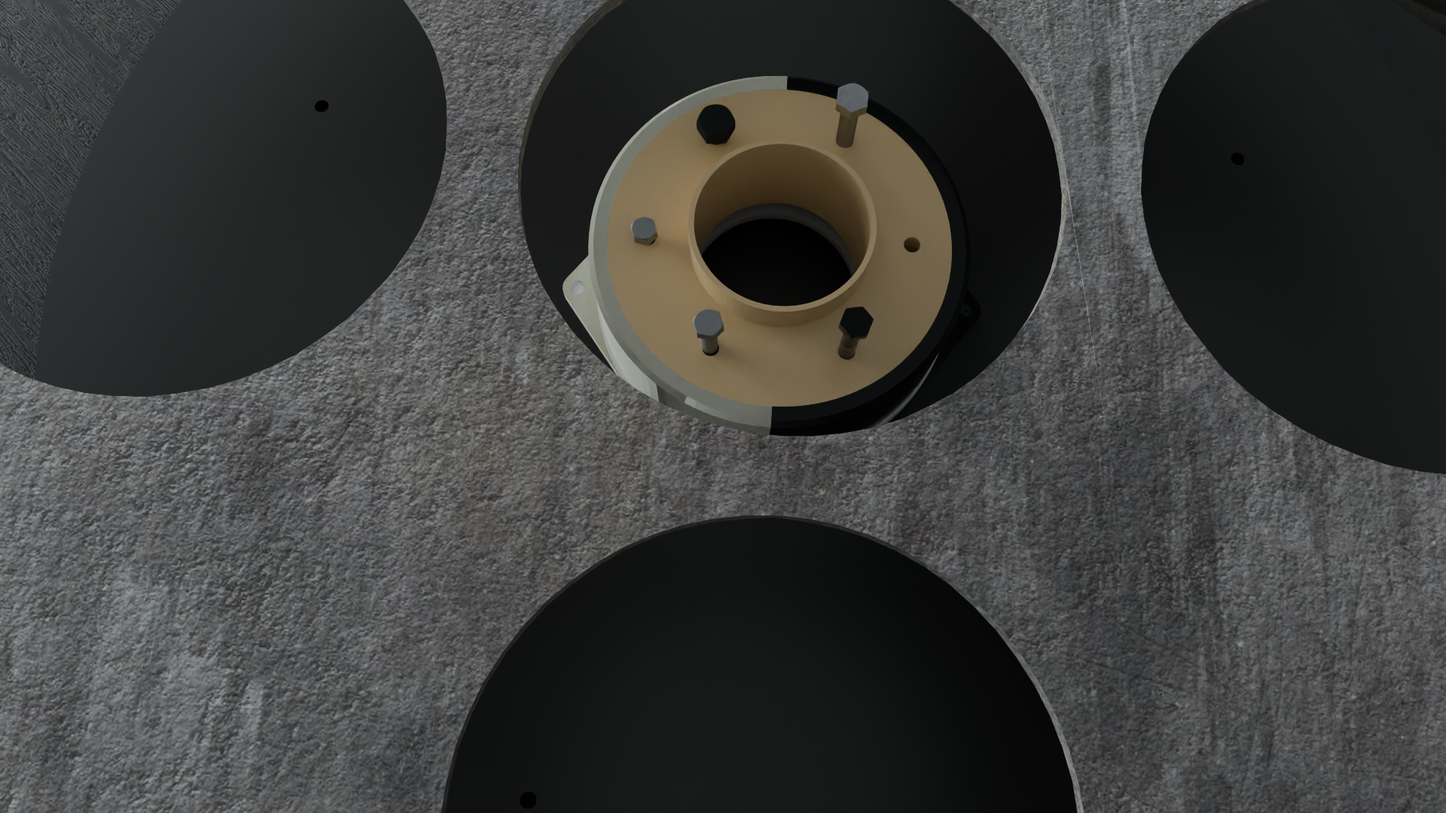bolt: (697, 104, 735, 136), (840, 306, 874, 336), (837, 82, 869, 113), (693, 309, 724, 337), (631, 217, 657, 241)
